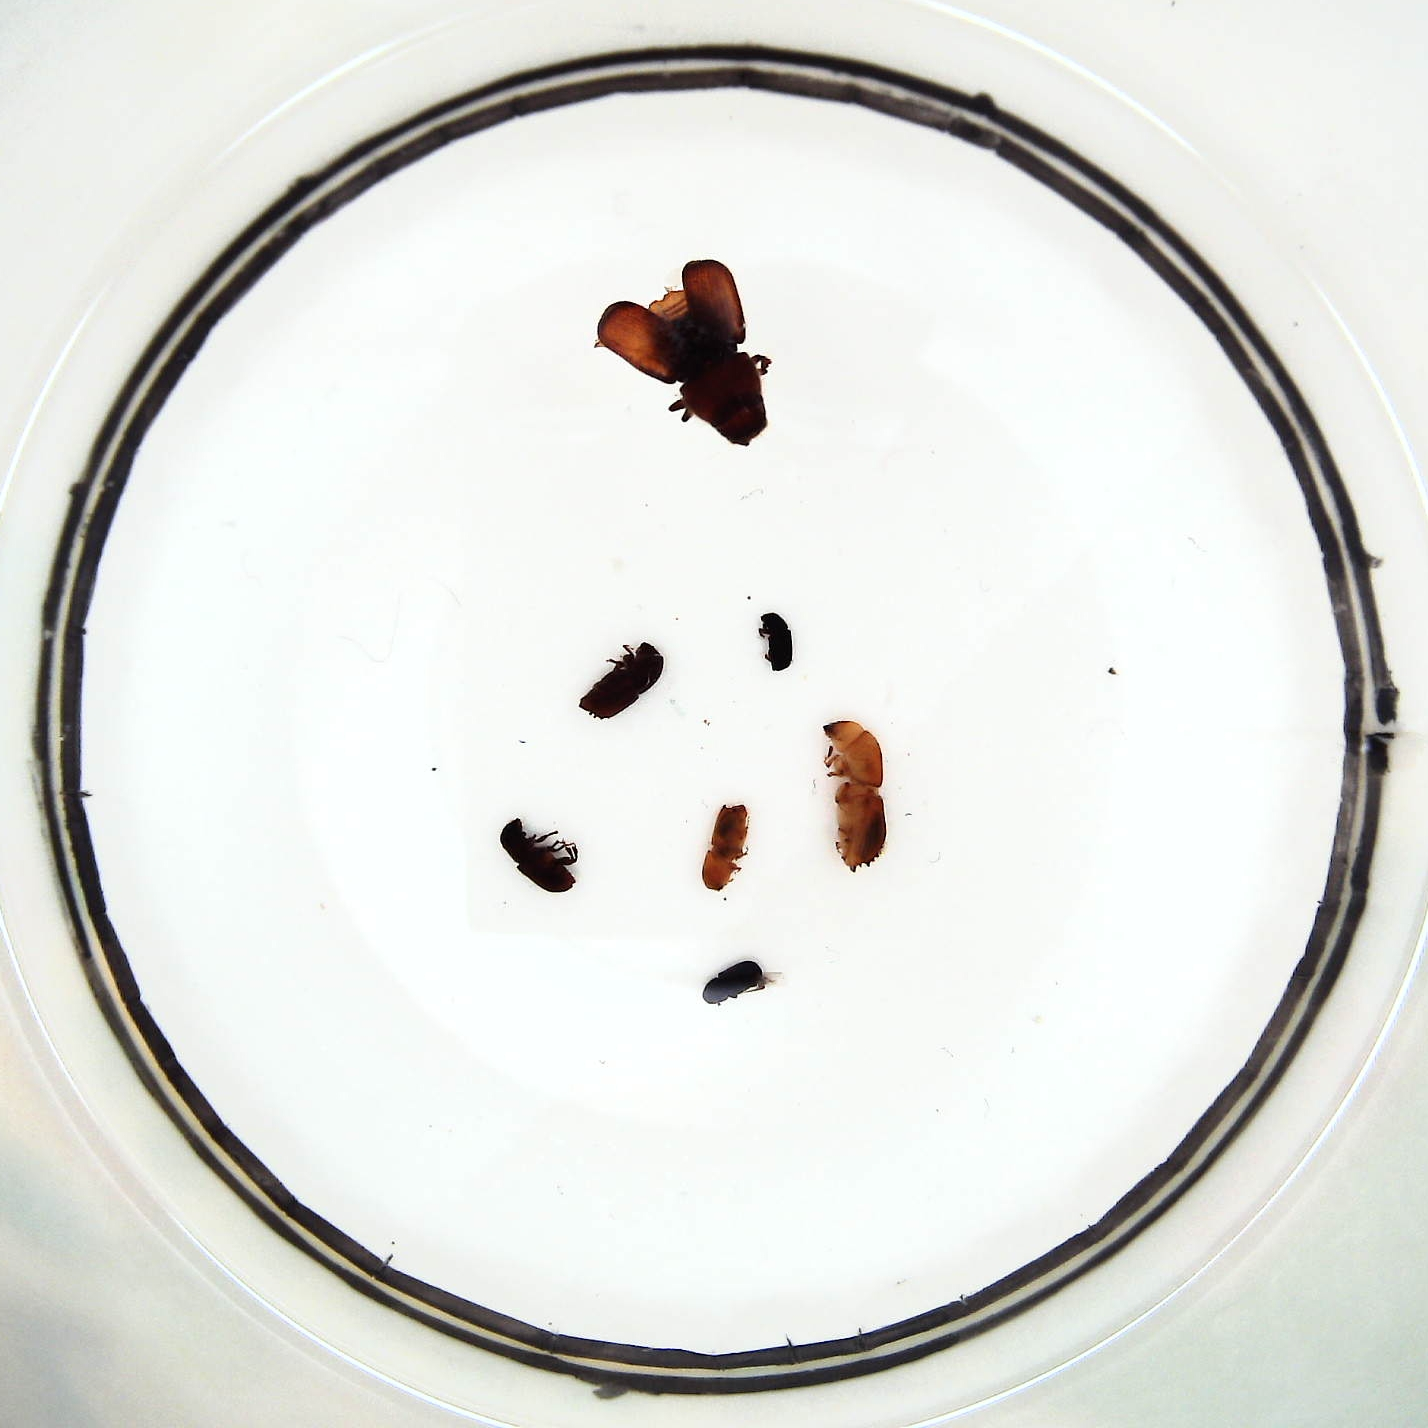Boerner: (823, 717, 891, 874)
Leconte: (595, 259, 773, 452)
Linnaeus: (581, 643, 664, 721)
acuminatus: (701, 802, 752, 893)
armandi: (498, 816, 574, 894)
coleoptera: (701, 962, 766, 1003), (758, 607, 794, 676)
